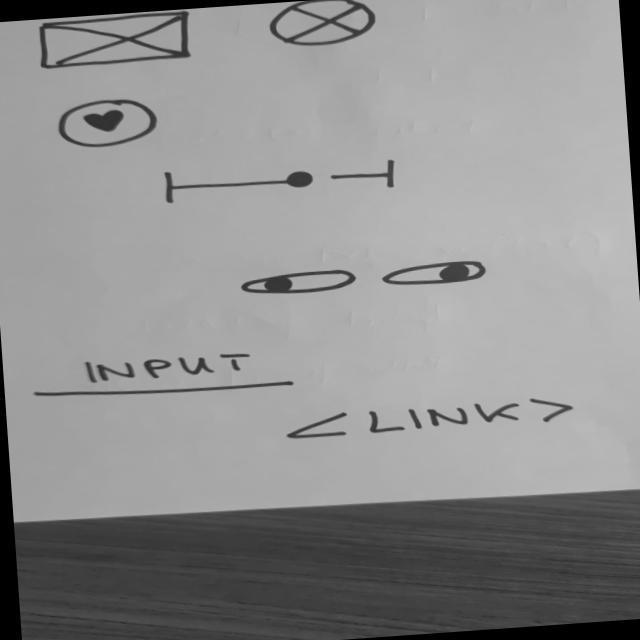icon-button: (52, 95, 167, 152)
image: (35, 10, 200, 74), (263, 1, 383, 52)
input: (23, 344, 302, 408)
link: (283, 391, 585, 443)
slider: (158, 153, 403, 211)
toggle: (235, 266, 361, 302), (377, 256, 492, 290)
